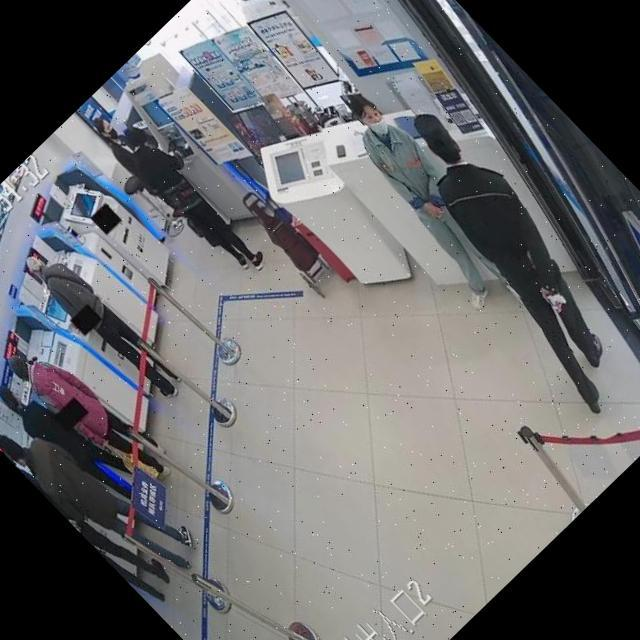person: (358, 97, 640, 409), (310, 85, 539, 318), (0, 386, 208, 609), (0, 419, 178, 605), (2, 324, 180, 505), (106, 110, 278, 286), (18, 235, 188, 410), (15, 440, 178, 607), (0, 359, 147, 520), (236, 186, 342, 294), (88, 528, 170, 612), (88, 113, 160, 187)
